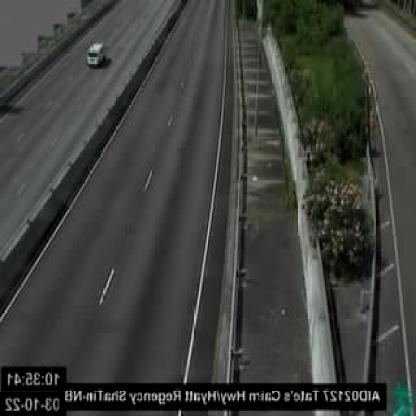Car: (86, 42, 105, 68)
